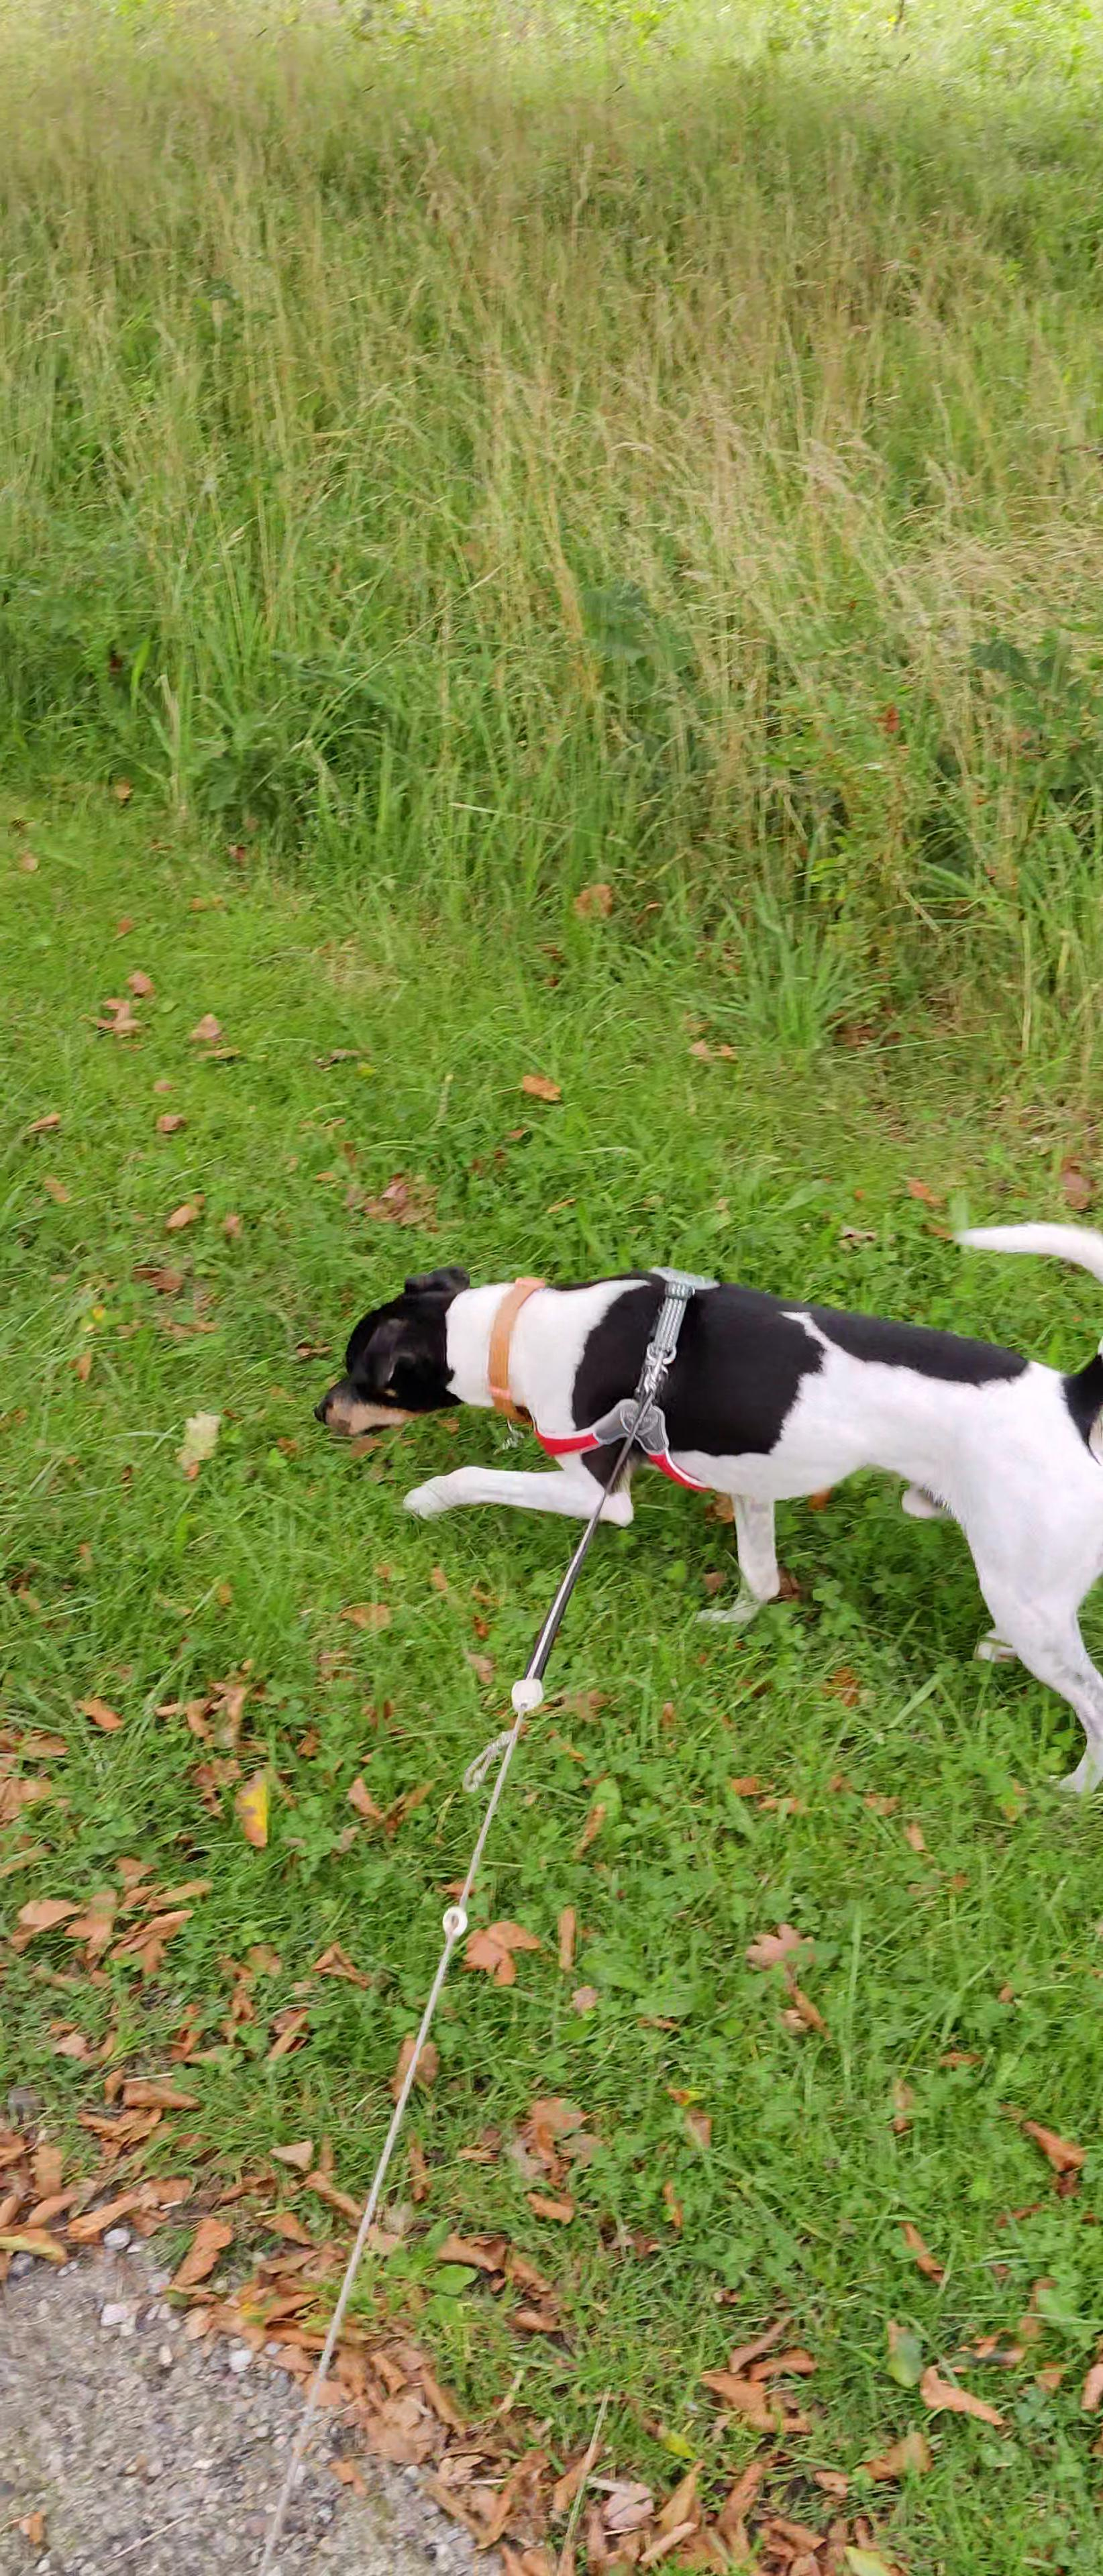Dog: (273, 1203, 1103, 1810)
